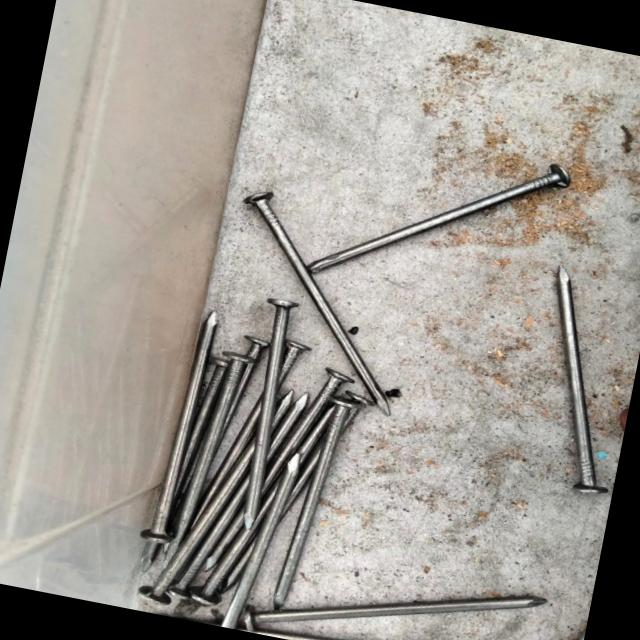3x10 nail: (294, 99, 594, 325), (128, 269, 312, 582), (482, 252, 640, 518), (225, 526, 559, 640)
